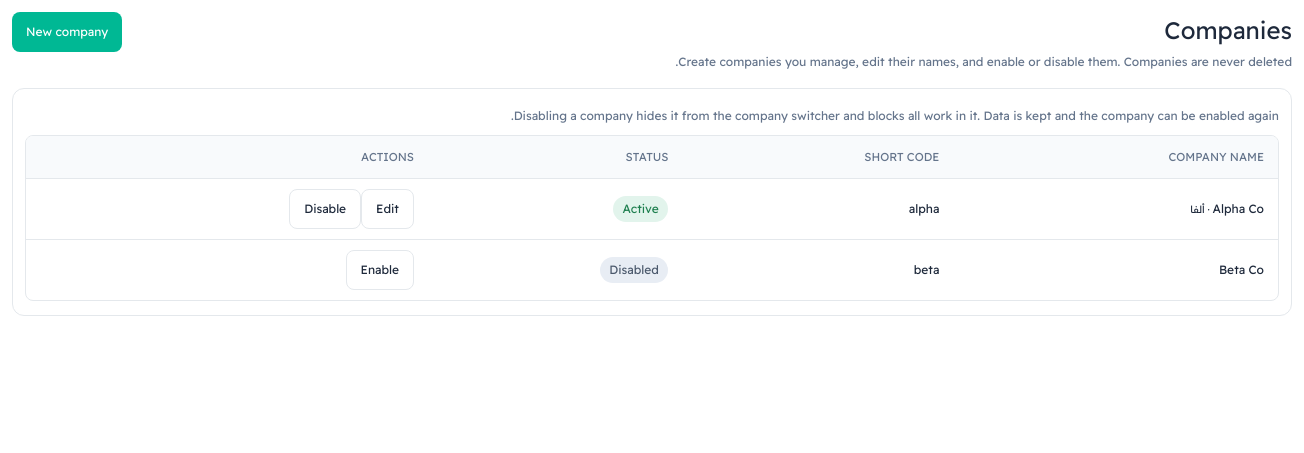
Scenario: CompaniesManagement › maps COMPANY_LAST_ACTIVE_CONFLICT (en) to its translated message, never the raw backend text
Click the button "Disable": [325, 209] box [289, 189, 361, 229]
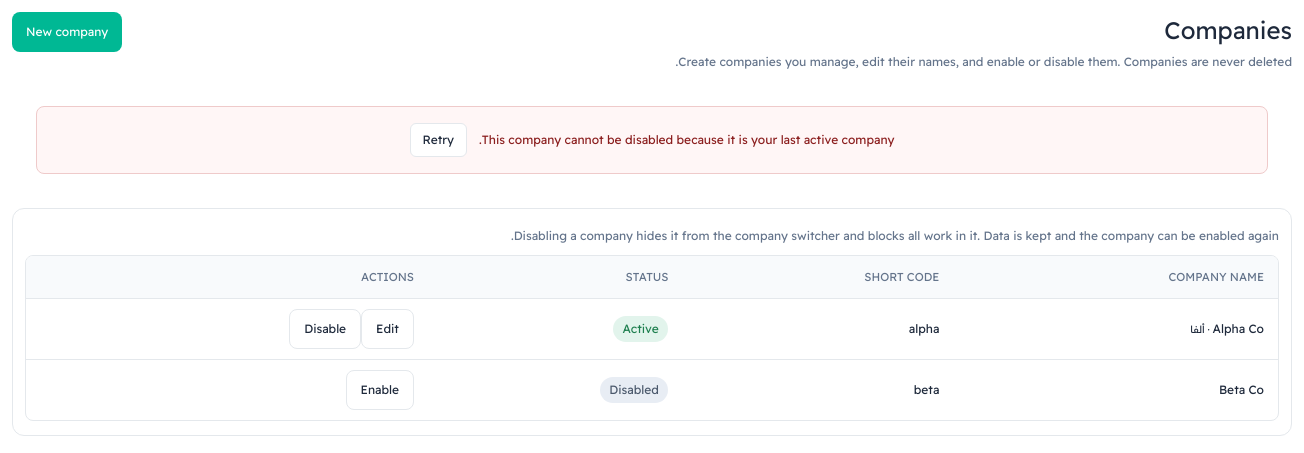
Expected: the text "This company cannot be disabled because it is your last active company." is shown, [479, 130, 894, 149]
